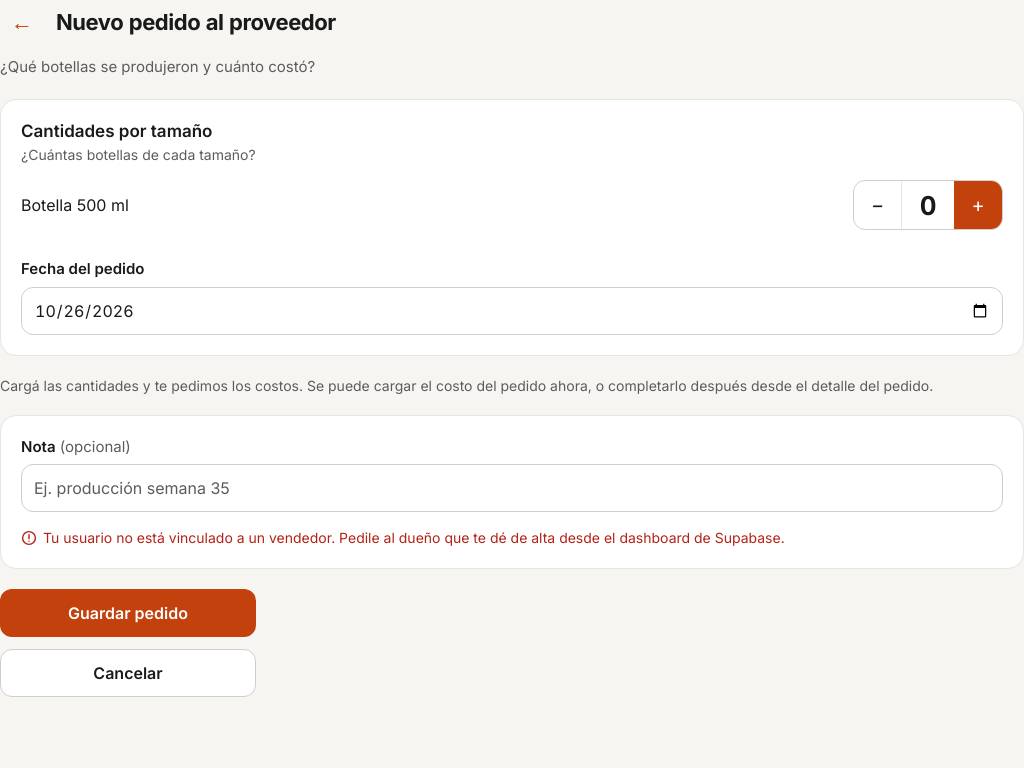
Test case: Pedido nuevo › el aviso del dólar heredado y el del IVA quedan visibles (no dentro de Más datos)
Click the button named "Sumar una unidad de Botella 500 ml".
click(978, 205)  # box x1=954 y1=181 x2=1002 y2=229
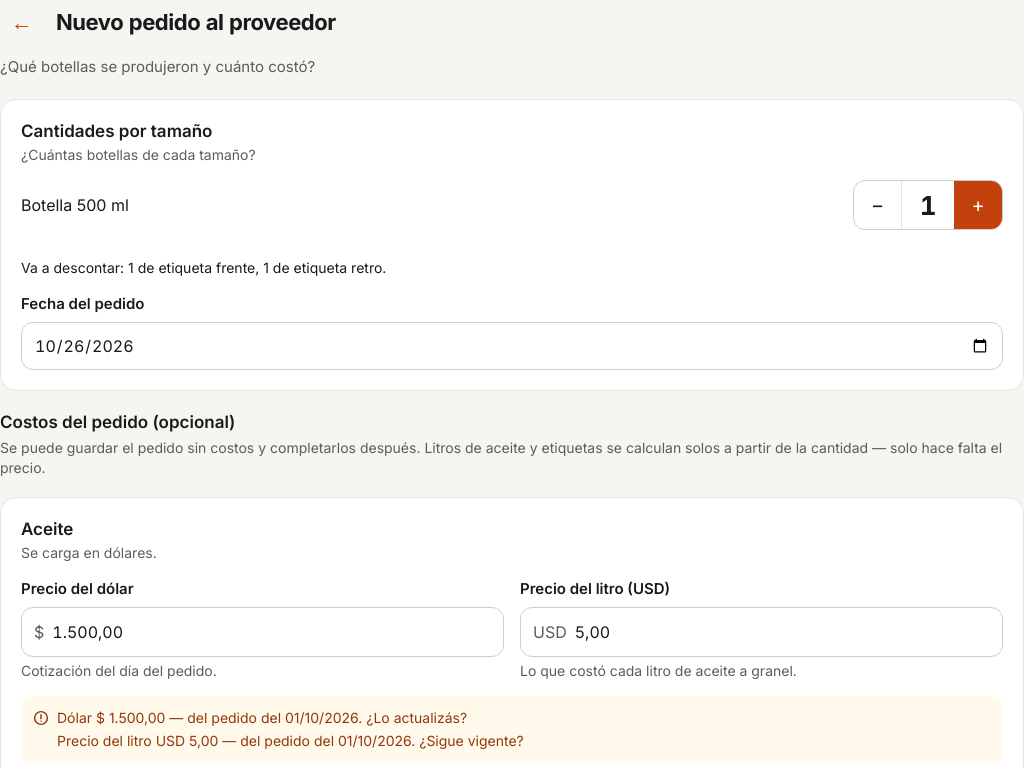
expect the element that starts with "Dólar" is shown: met, box x1=21 y1=696 x2=1003 y2=763
expect the element that starts with "Dólar" shows "¿Sigue vigente?": met, box x1=411 y1=732 x2=524 y2=749
